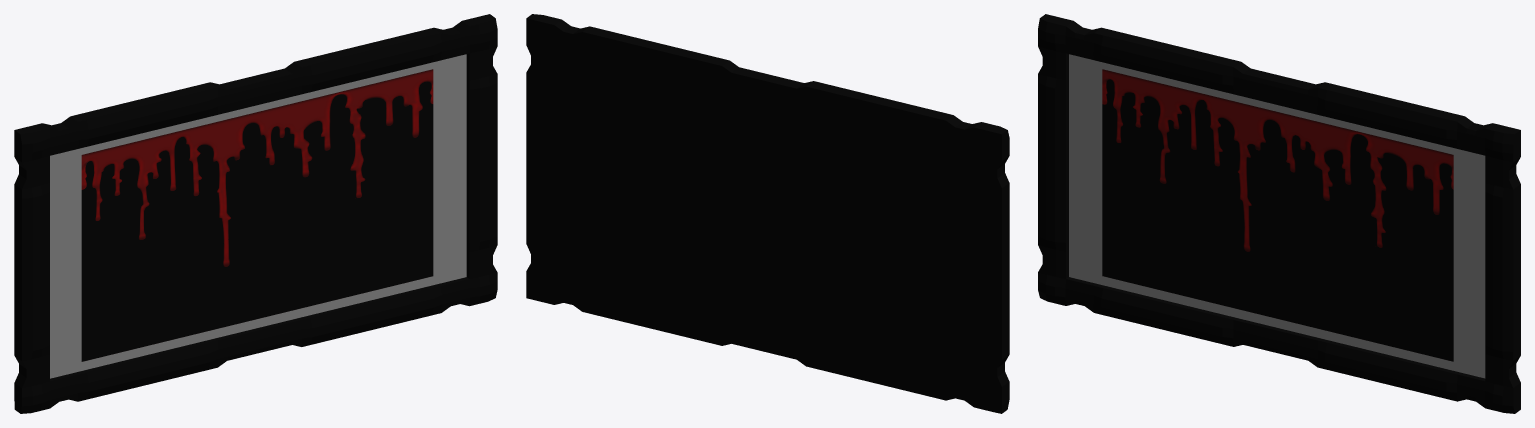
File: picture_frame.glb
3 views of the same model, side by side, from view 1: azimuth 30°, elevation 25°; view 2: azimuth 150°, elevation 25°; view 3: azimuth 330°, elevation 25° (orthographic).
Visible parts, largest first — view 1: Picture, Picture Frame, Pictureframe back; view 2: Picture Frame; view 3: Picture, Picture Frame, Pictureframe back.
Part boxes in pixels (<box>): Picture: <box>81,69,433,361</box>; Picture Frame: <box>14,14,497,413</box>; Pictureframe back: <box>50,54,466,378</box>; Picture Frame: <box>526,14,1009,413</box>; Picture: <box>1102,69,1453,361</box>; Picture Frame: <box>1038,14,1520,413</box>; Pictureframe back: <box>1069,54,1485,378</box>.
Bounding box in the file's own units: 1.7 × 0.9551 × 0.0576.
Materials: 3 (1 with a texture image).
